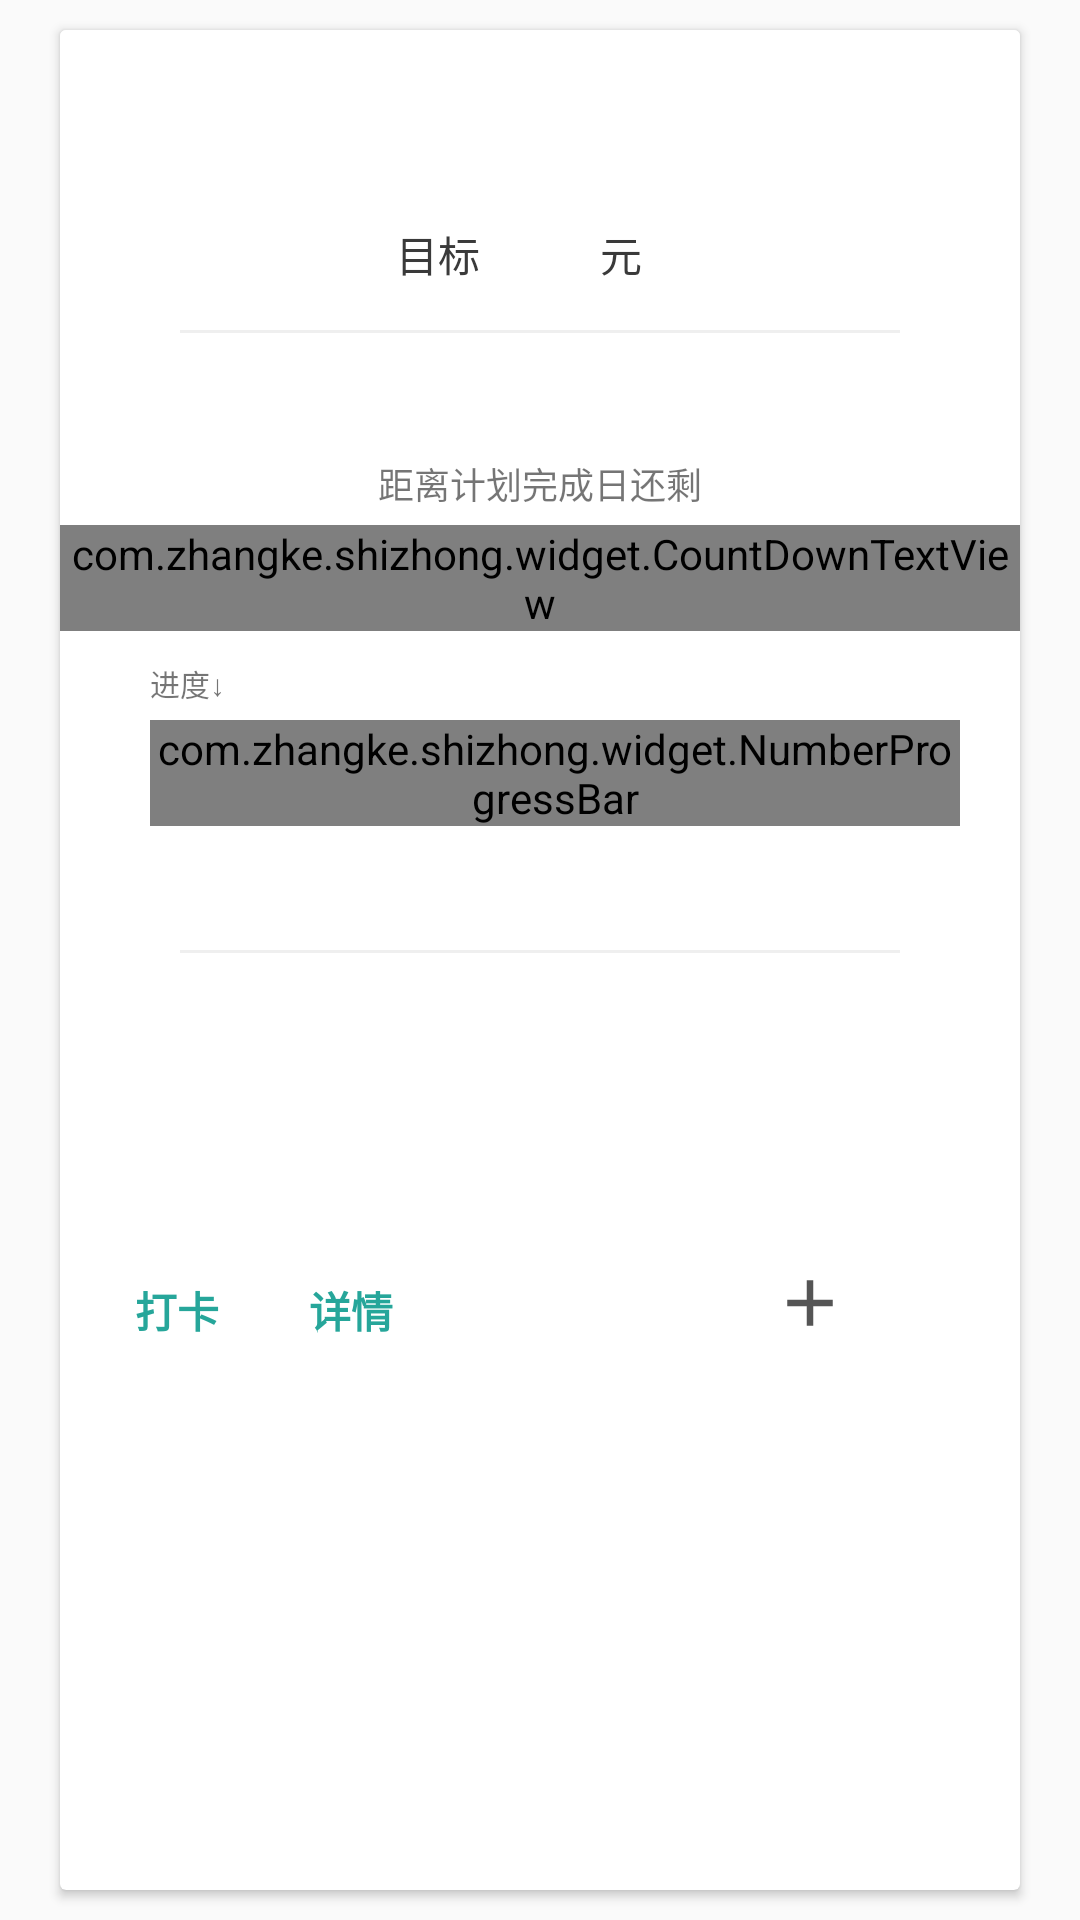

Icons on this 1080*1920 Android screen, each with its box as (x1, y1, x2, y2):
add: (787, 1280, 833, 1326)
